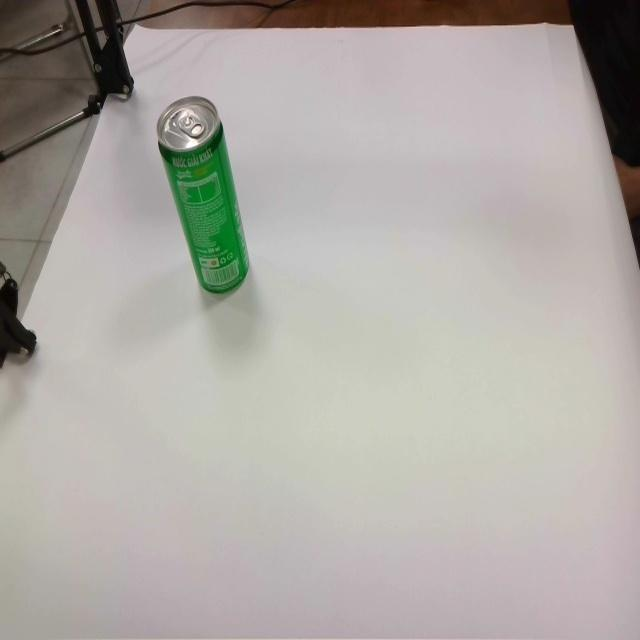debris: (155, 95, 250, 296)
